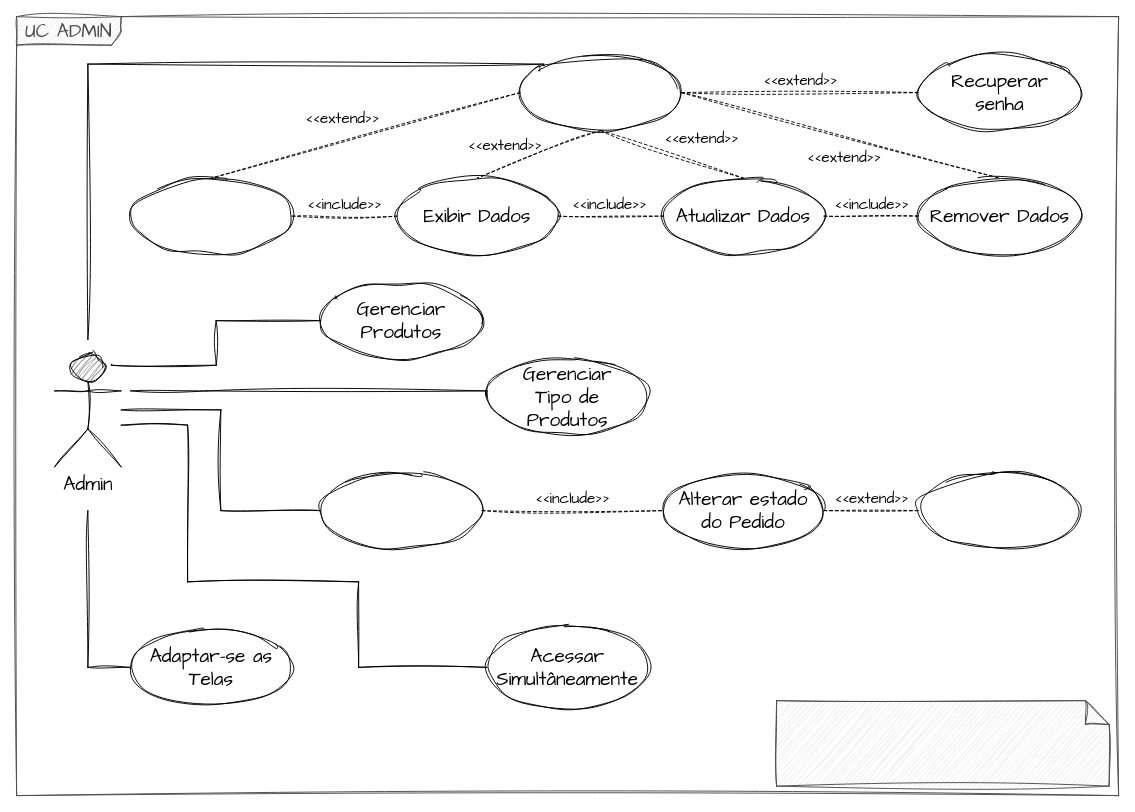
Image size: 1135x812. Some labels were removed from this diagram. Here are the shapes that lost their labels. From the top down, the box of each, then its label:
(519, 54, 682, 131): Fazer Cadastro
(130, 177, 292, 254): Criar Dados
(320, 472, 482, 549): Gerenciar Pedidos
(918, 472, 1081, 549): Emitir Comandas
(776, 700, 1109, 786): Téc. Informática para Internet Gabriela Lessa 3º Módulo
